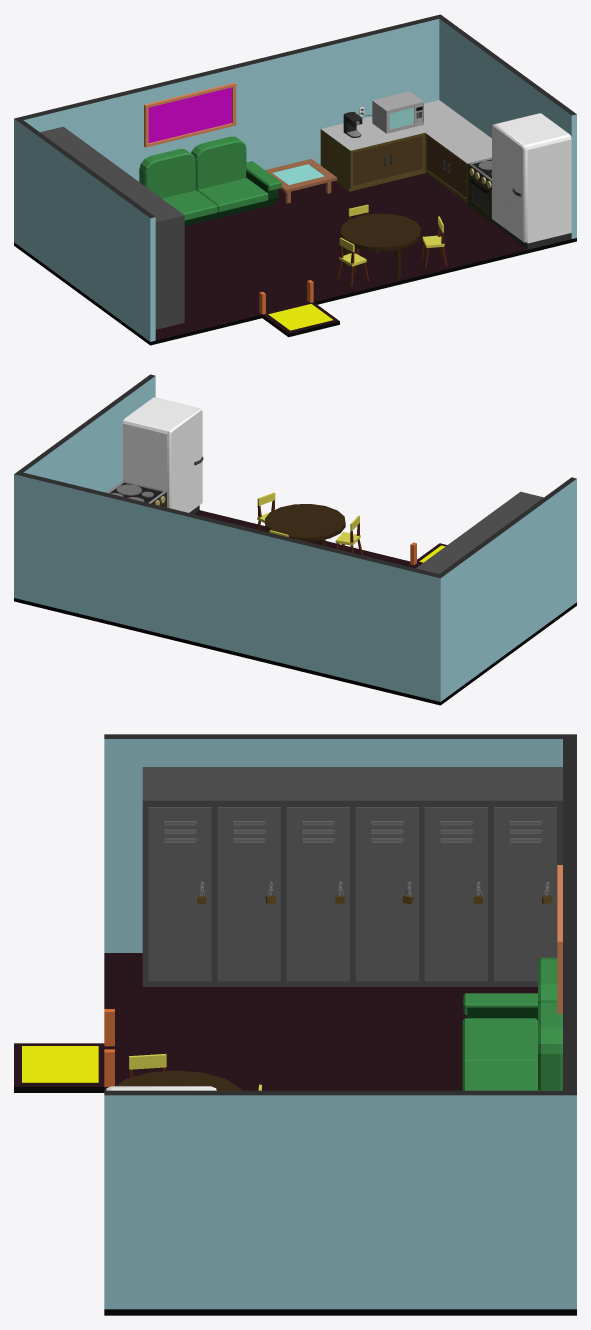
Rendered from ZonaEmpleados.fbx.
The picture shows the model from 3 angles, top to bottom: view 1: azimuth 30°, elevation 25°; view 2: azimuth 150°, elevation 25°; view 3: azimuth 270°, elevation 25°; orthographic projection. The views are drawn at different scales.
Visible parts, largest first — view 1: Paredes.005, PlataformaMovil.005, Encimeras, Nevera, Taquilla, RespaldoSofá, Cuadro, PuertaNevera, Mesa, CojinesSofá, MesaCafe, Microondas (+12 smaller); view 2: Paredes.005, Nevera, PlataformaMovil.005, PuertaNevera, Taquilla, Mesa, HornoFogones, Silla.006; view 3: Paredes.005, PlataformaMovil.005, Taquilla, PuertaTaquilla3, PuertaTaquilla5, PuertaTaquilla1, PuertaTaquilla2, PuertaTaquilla4, PuertaTaquilla6, CojinesSofá, RespaldoSofá, SalidaPasillo2.001 (+5 smaller).
Part boxes in pixels (x1,y1,x2,y2): Paredes.005: (14, 14, 576, 341); PlataformaMovil.005: (14, 173, 576, 345); Encimeras: (320, 100, 491, 203); Nevera: (494, 113, 571, 249); Taquilla: (40, 126, 184, 329); RespaldoSofá: (139, 136, 246, 198); Cuadro: (144, 82, 236, 147); PuertaNevera: (492, 124, 527, 242); Mesa: (340, 213, 421, 278); CojinesSofá: (162, 178, 268, 220); MesaCafe: (265, 159, 337, 203); Microondas: (372, 91, 423, 133); Paredes.005: (14, 374, 576, 701); Nevera: (123, 397, 199, 513); PlataformaMovil.005: (14, 510, 576, 705); PuertaNevera: (167, 408, 203, 512); Taquilla: (416, 491, 543, 573); Mesa: (265, 504, 345, 546); HornoFogones: (106, 480, 166, 507); Silla.006: (335, 515, 362, 555); Paredes.005: (104, 734, 576, 1309); PlataformaMovil.005: (14, 953, 576, 1315); Taquilla: (142, 767, 562, 986); PuertaTaquilla3: (286, 807, 349, 981); PuertaTaquilla5: (424, 807, 487, 981); PuertaTaquilla1: (148, 807, 211, 981); PuertaTaquilla2: (217, 807, 280, 981); PuertaTaquilla4: (355, 807, 418, 981); PuertaTaquilla6: (494, 807, 556, 981); CojinesSofá: (462, 1018, 537, 1090); RespaldoSofá: (538, 957, 562, 1090); SalidaPasillo2.001: (22, 1046, 98, 1082).
Bounding box in the file's own units: 23591 × 6720 × 15560.
